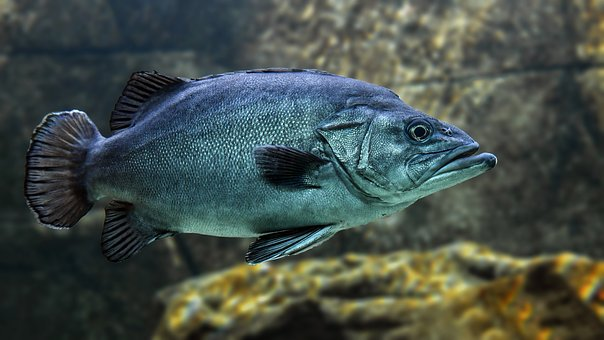fish: (14, 63, 506, 267)
